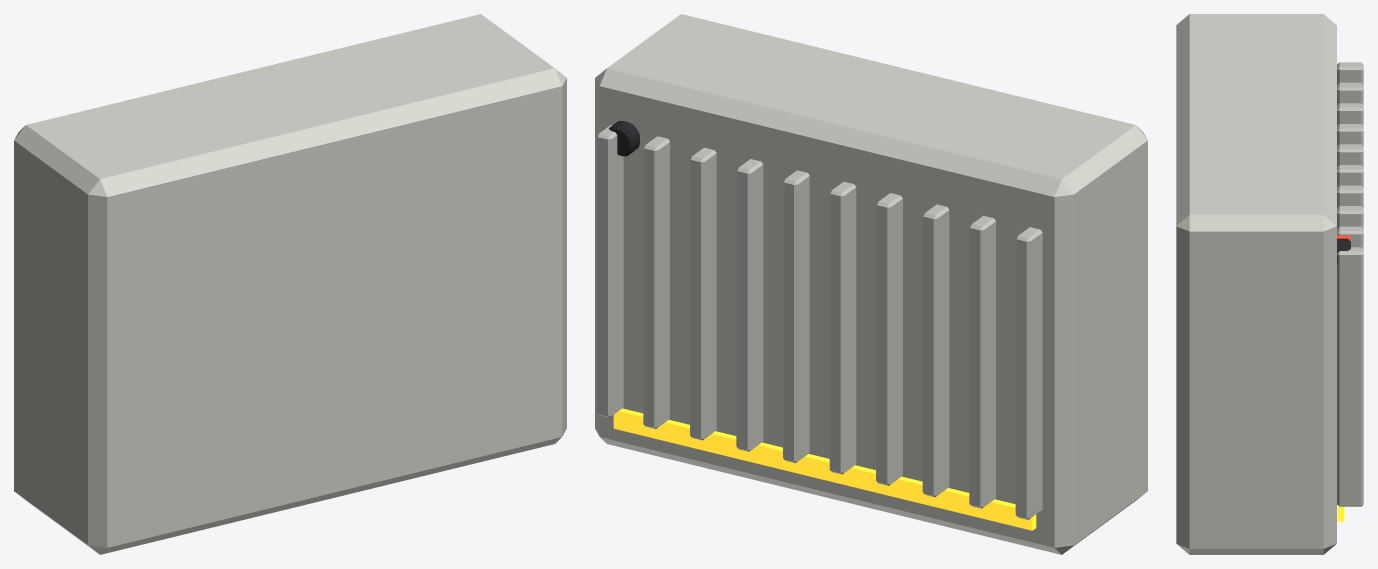
Rendered from heater.glb.
3 views of the same model, side by side, from view 1: azimuth 30°, elevation 25°; view 2: azimuth 150°, elevation 25°; view 3: azimuth 270°, elevation 25° (orthographic). The views are drawn at different scales.
Parts seen in each view (by area): view 1: heater; view 2: heater; view 3: heater.
Boxes of the visible parts, left/top/right/bottom form: heater: left=14, top=14, right=566, bottom=554; heater: left=595, top=14, right=1147, bottom=554; heater: left=1176, top=14, right=1363, bottom=554.
Size of the model in its own units: 0.8 by 0.6 by 0.3.
